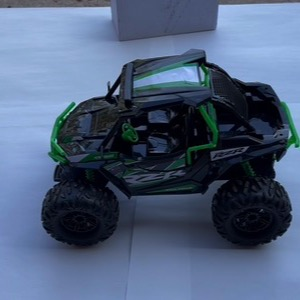polaris: (39, 50, 299, 251)
